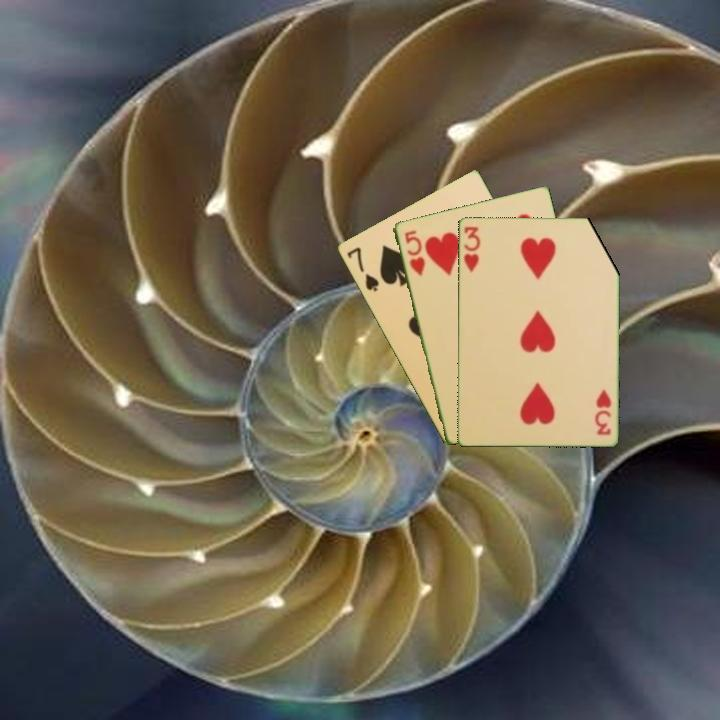3h: (460, 223, 483, 275), (592, 386, 614, 438)
5h: (401, 226, 428, 279)
7s: (343, 243, 382, 295)
